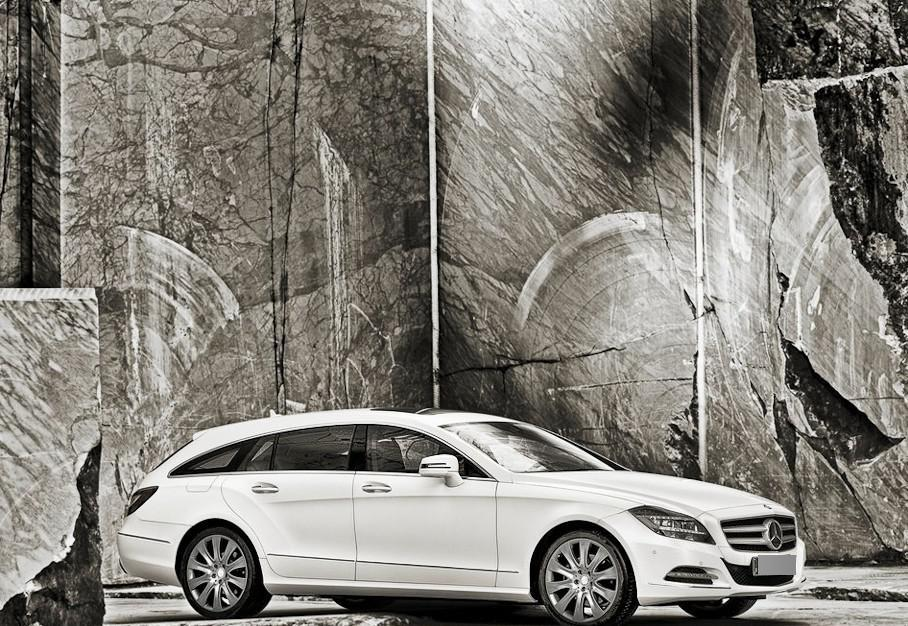Wagon: (114, 405, 807, 626)
